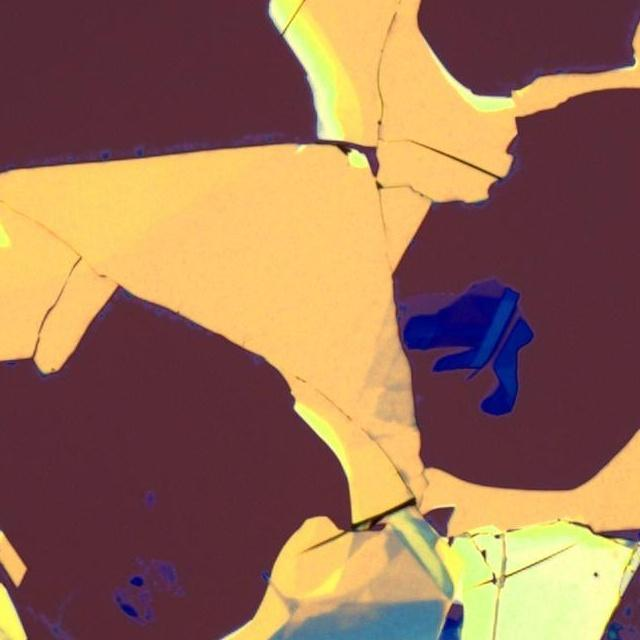monolayer-eWW4: (393, 290, 464, 318)
